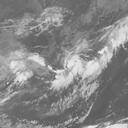cyclone: (41, 38, 102, 100)
